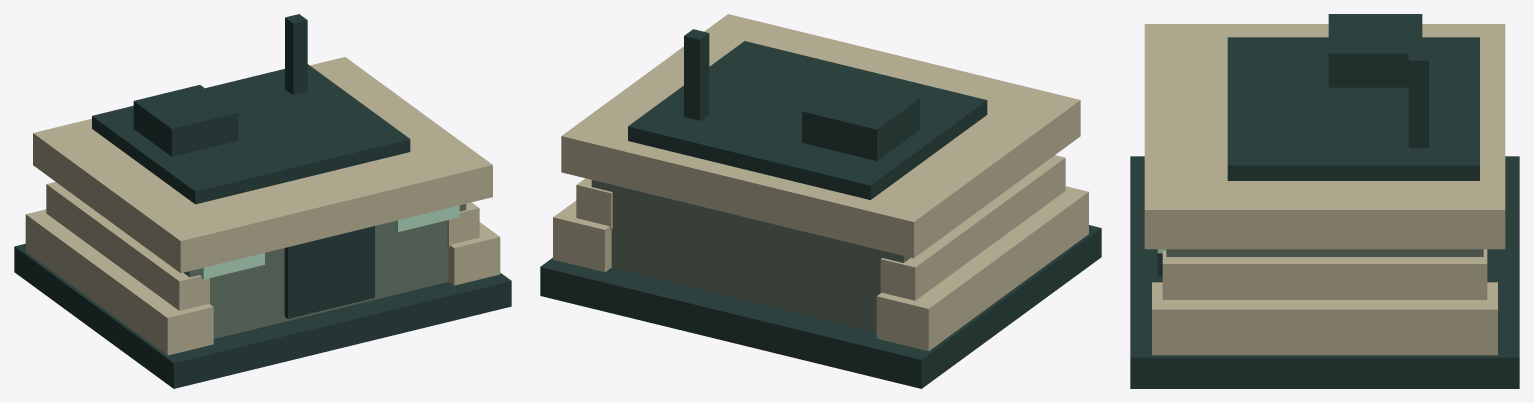
Rendered from bunker-intact.glb.
3 views of the same model, side by side, from view 1: azimuth 30°, elevation 25°; view 2: azimuth 150°, elevation 25°; view 3: azimuth 270°, elevation 25° (orthographic). The views are drawn at different scales.
Visible parts, largest first — view 1: bunker-intact; view 2: bunker-intact; view 3: bunker-intact.
Part boxes in pixels (x1=…): bunker-intact: x1=14, y1=14, x2=511, y2=388; bunker-intact: x1=540, y1=14, x2=1101, y2=388; bunker-intact: x1=1130, y1=14, x2=1519, y2=388.
Size of the model in its own units: 3.3 by 2.1 by 2.7.
